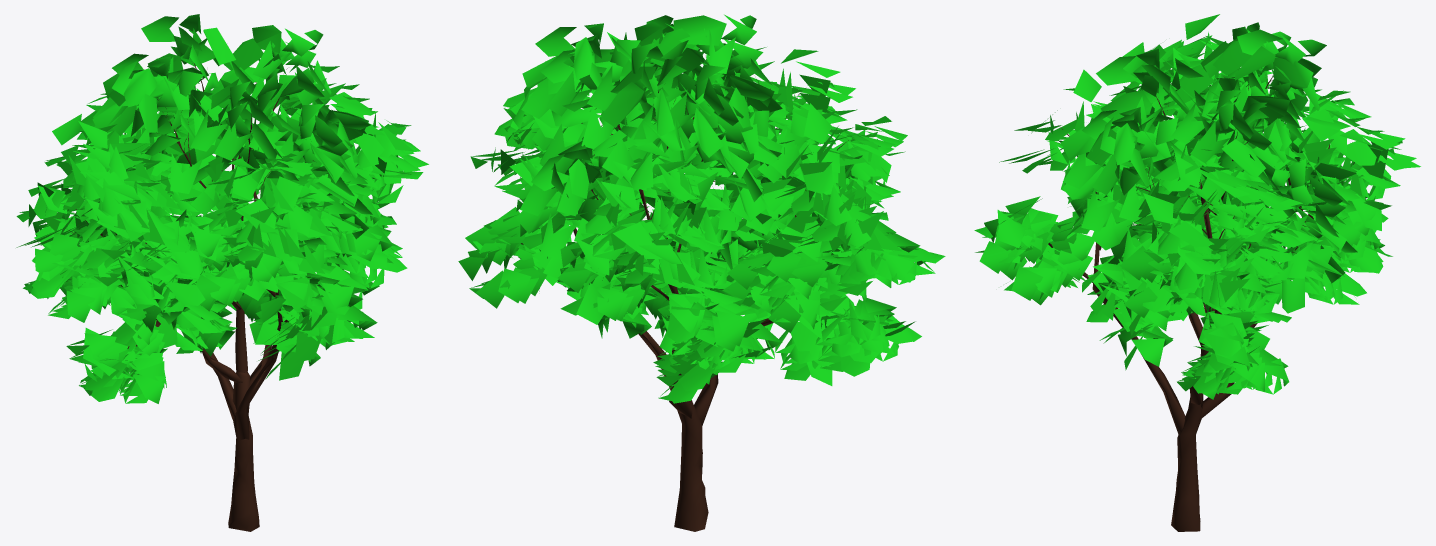
File: Tree03.FBX
3 views of the same model, side by side, from view 1: azimuth 30°, elevation 25°; view 2: azimuth 150°, elevation 25°; view 3: azimuth 270°, elevation 25° (orthographic). The views are drawn at different scales.
Visible parts, largest first — view 1: leaf01.001; view 2: leaf01.001; view 3: leaf01.001.
Part boxes in pixels (x1=…): leaf01.001: x1=16, y1=14, x2=428, y2=531; leaf01.001: x1=458, y1=14, x2=945, y2=531; leaf01.001: x1=974, y1=14, x2=1420, y2=531.
Size of the model in its own units: 548 by 615 by 511.
